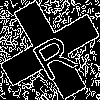R: (25, 25, 79, 83)
